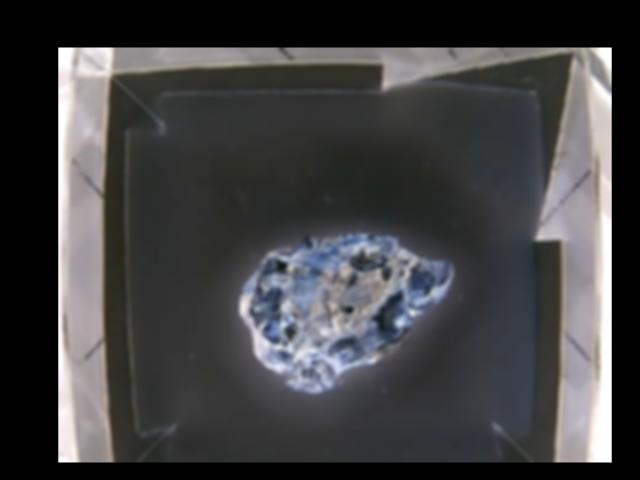Shell: (239, 234, 451, 393)
